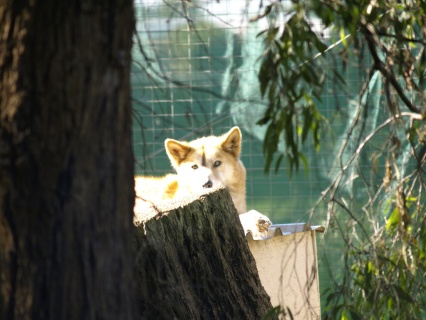Fox: (133, 125, 247, 215)
